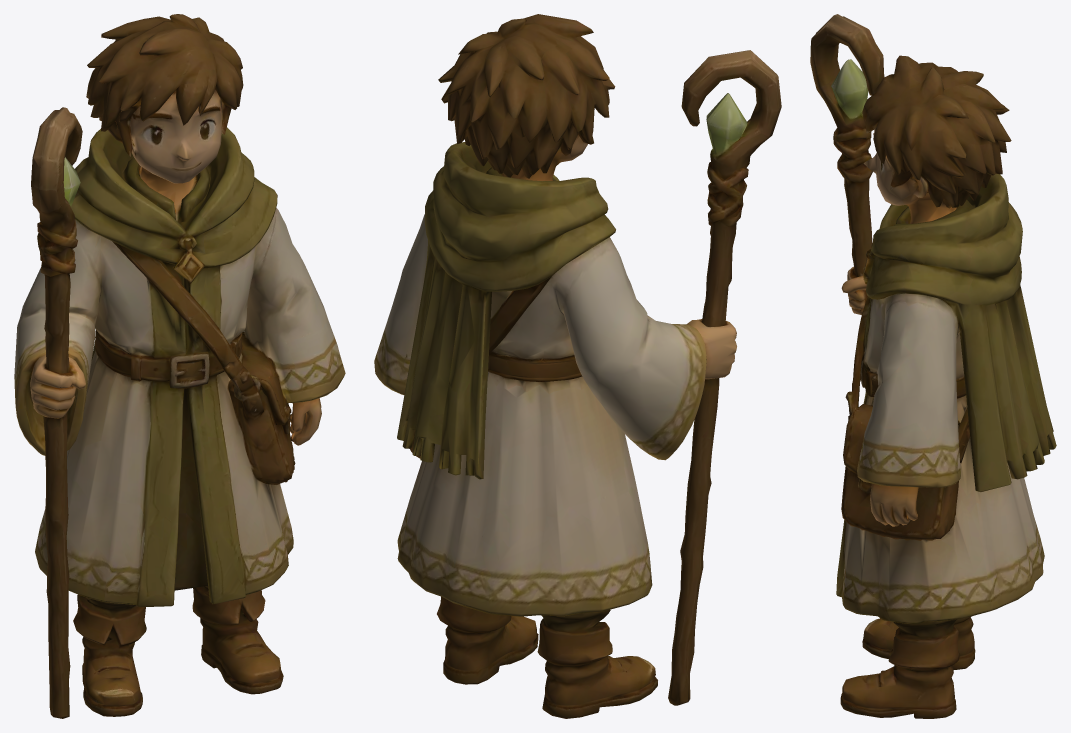
File: chr_keeper_d_v1.glb
The picture shows the model from 3 angles, left to right: view 1: azimuth 30°, elevation 25°; view 2: azimuth 150°, elevation 25°; view 3: azimuth 270°, elevation 25°; orthographic projection. The views are drawn at different scales.
Parts seen in each view (by area): view 1: tripo_node_d6b62a8b-733a-4497-82b7-edf72822db59; view 2: tripo_node_d6b62a8b-733a-4497-82b7-edf72822db59; view 3: tripo_node_d6b62a8b-733a-4497-82b7-edf72822db59.
Part boxes in pixels (x1,y1,x2,y2): tripo_node_d6b62a8b-733a-4497-82b7-edf72822db59: [14, 14, 345, 718]; tripo_node_d6b62a8b-733a-4497-82b7-edf72822db59: [374, 14, 781, 718]; tripo_node_d6b62a8b-733a-4497-82b7-edf72822db59: [810, 14, 1056, 718].
Size of the model in its own units: 0.54 by 0.9807 by 0.3539.
Materials: 1 (1 with a texture image).
